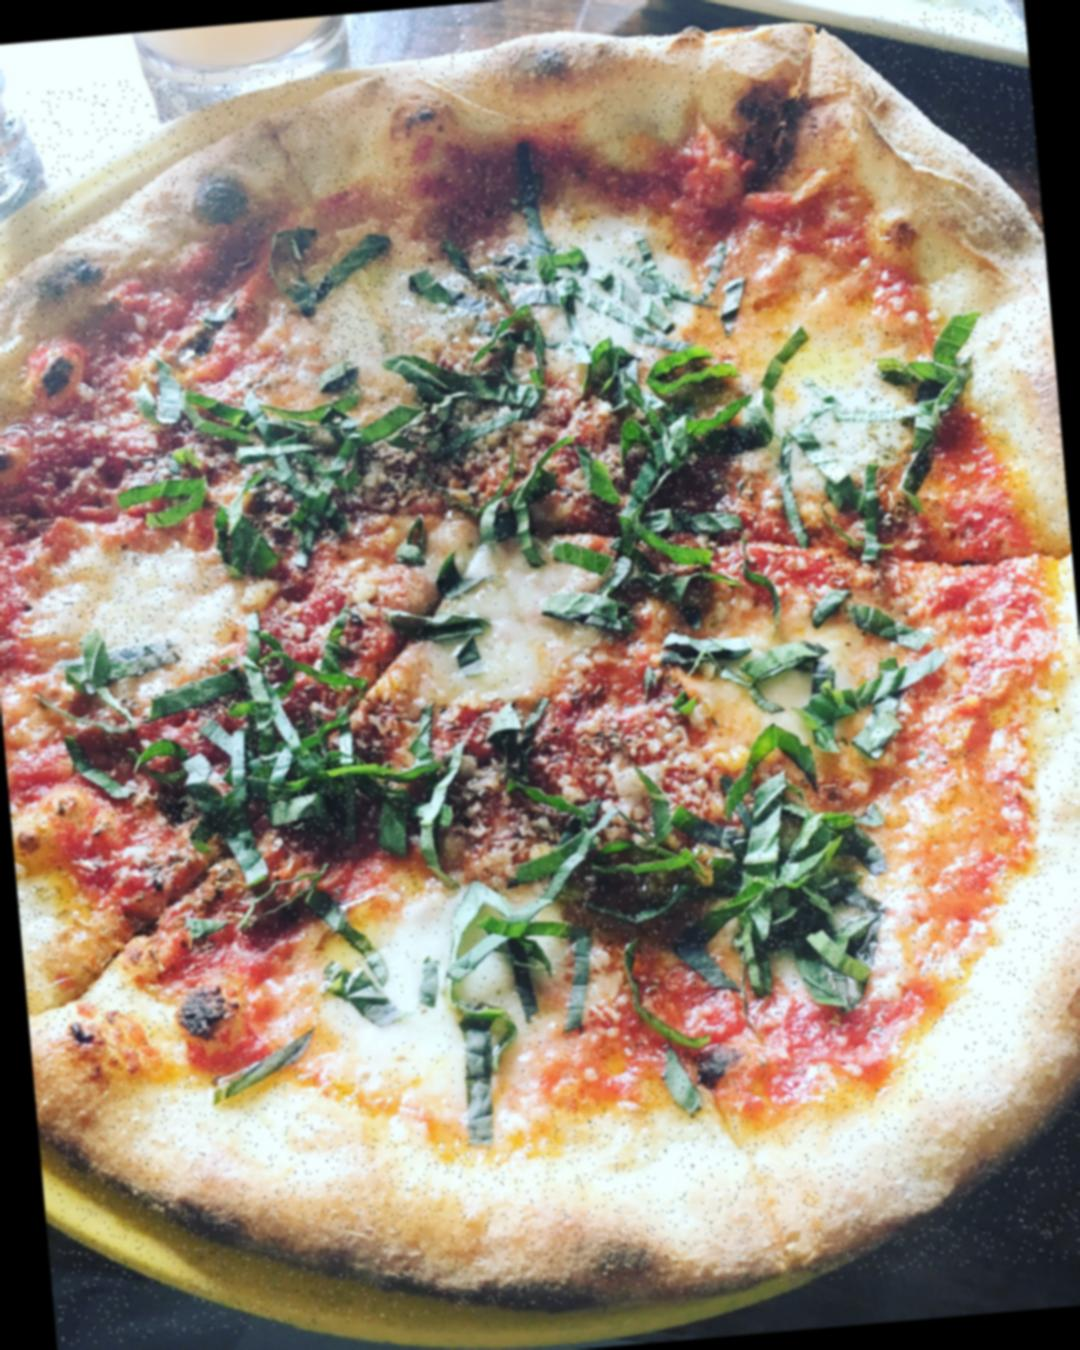Basil: (133, 341, 515, 566), (503, 731, 870, 964), (547, 338, 773, 619), (101, 669, 389, 847), (858, 317, 1011, 525), (450, 225, 602, 366)
Cheese: (344, 896, 570, 1145), (13, 540, 244, 677), (677, 605, 865, 756), (423, 523, 577, 705), (303, 242, 486, 365), (587, 215, 719, 367)
Pizza: (0, 3, 1080, 1348)
